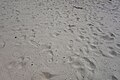human_foot_print: (80, 55, 98, 70), (42, 48, 55, 62), (26, 37, 39, 46)
